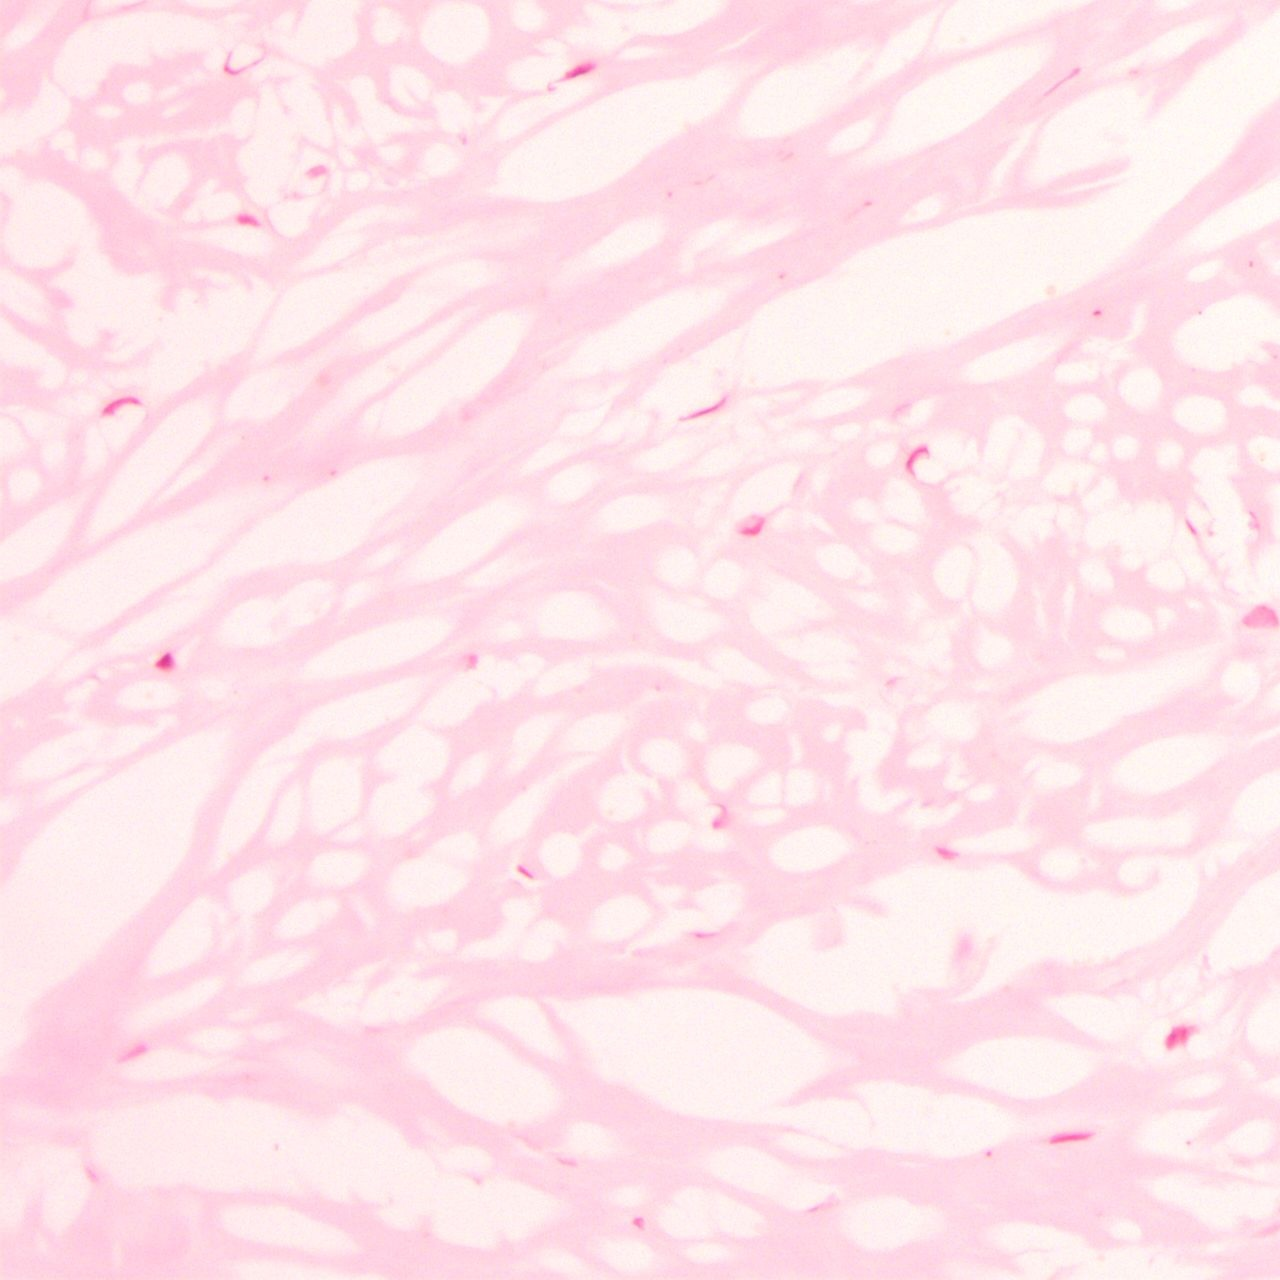nucleus-AC: (560, 59, 597, 83), (152, 651, 177, 670)
